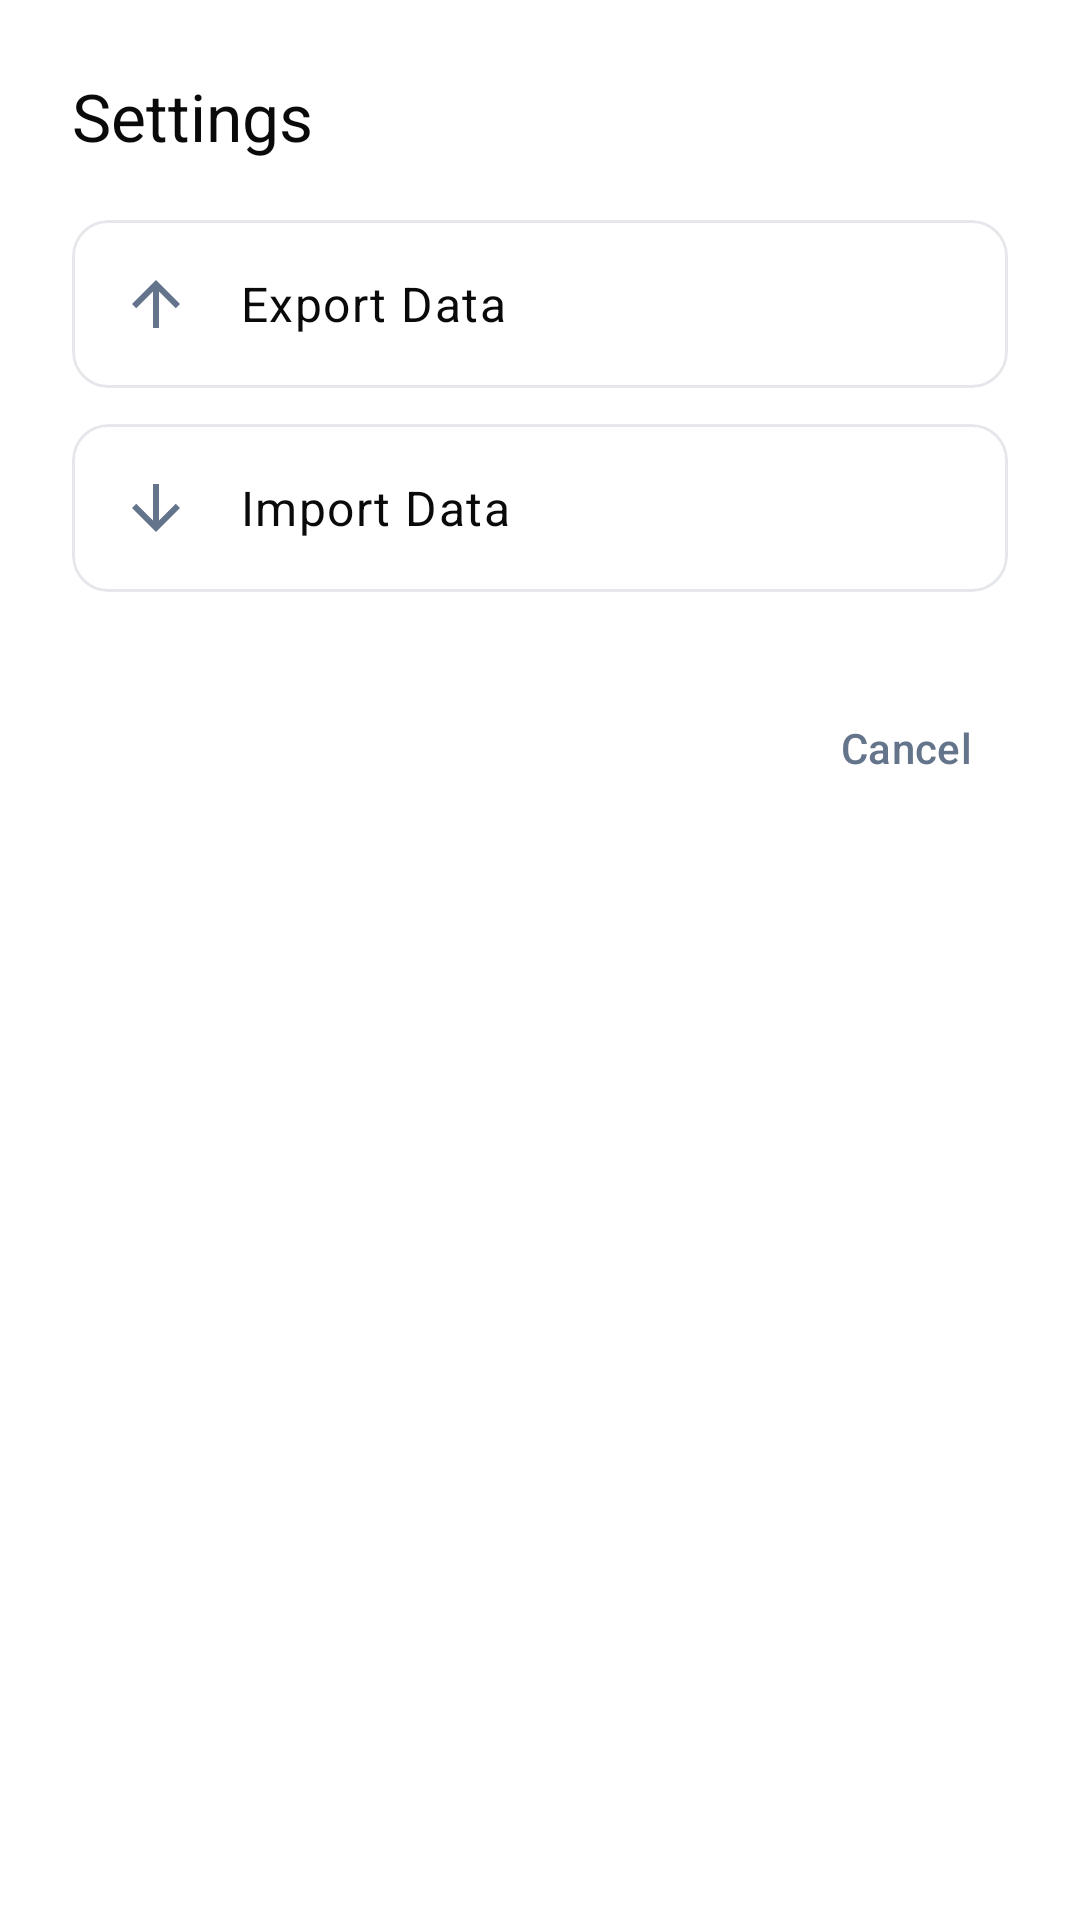

Icon bounding boxes for this 1080w x 1920h phone screenshot, format (x1, y1, x2, y2):
download: (132, 484, 180, 532)
upload: (132, 280, 180, 328)
